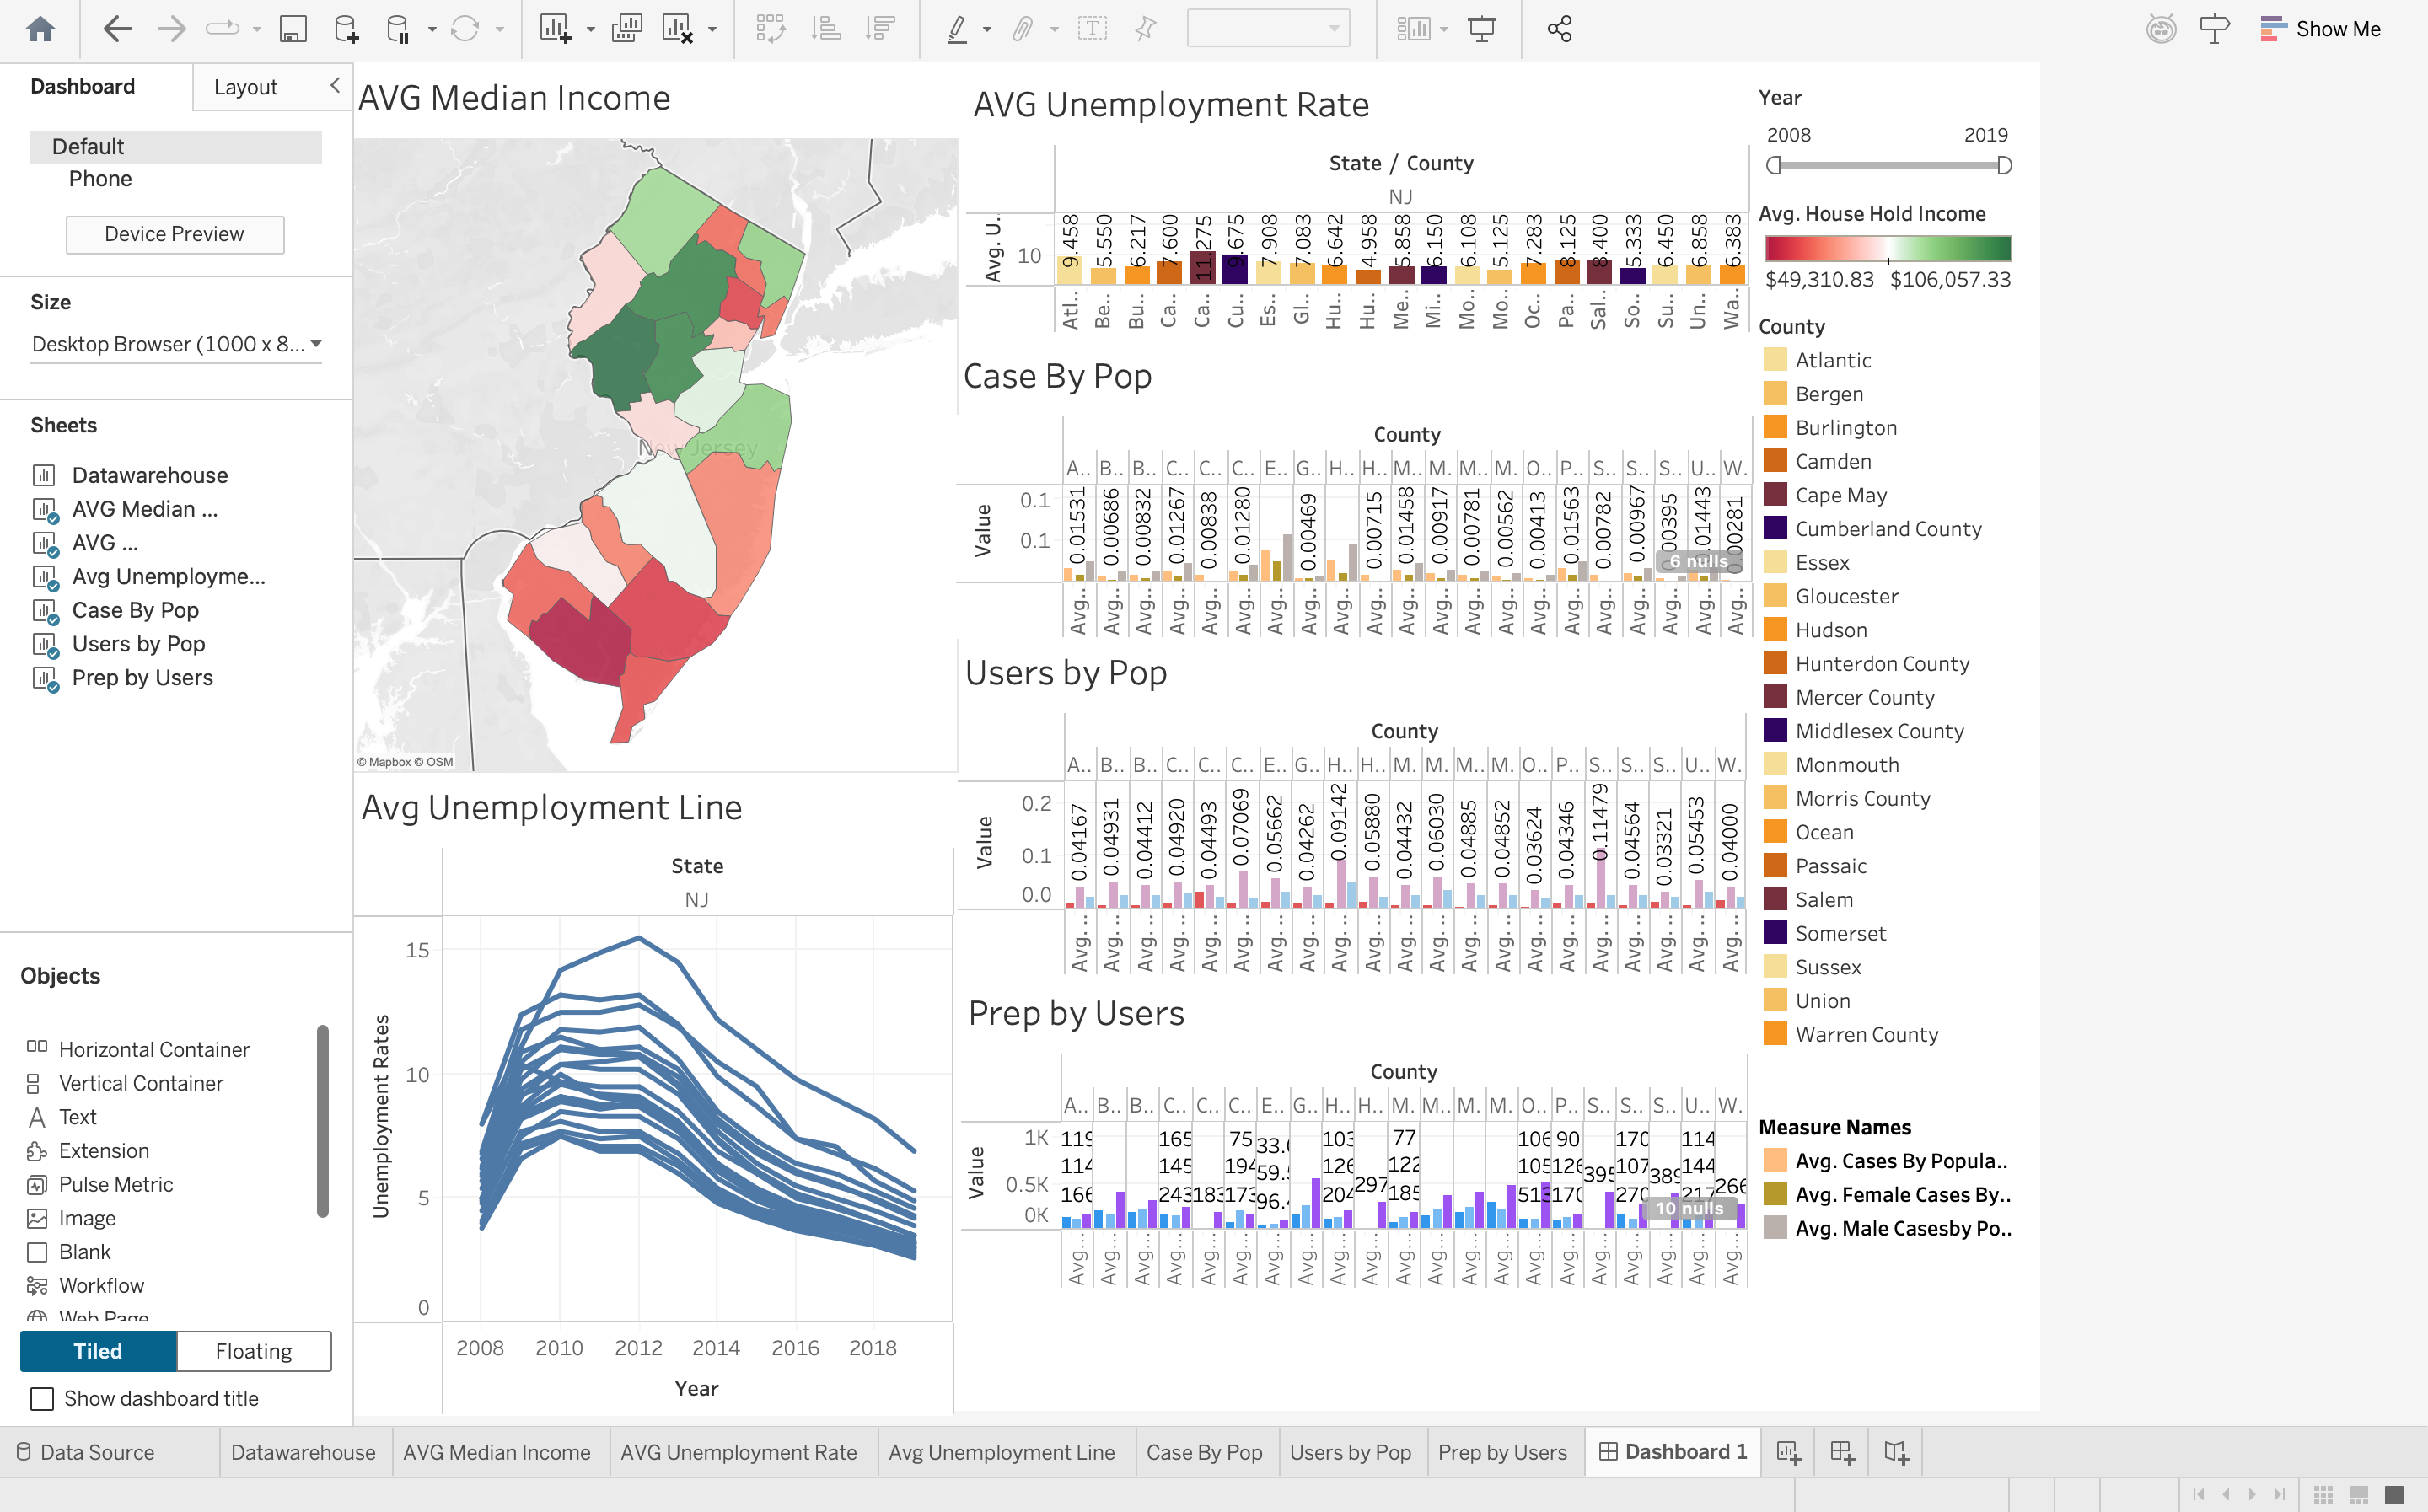

The dashboard page shown, as its layout file describes it:
{"tool":"tableau","page":{"name":"Dashboard 1","canvas":[1000,800],"ordinal":0},"visuals":[{"type":"worksheet","title":"AVG Unemployment Rate","mark":"Automatic","rows":["UnemploymentRates"],"cols":["State","County"],"box":[363,6,465,155]},{"type":"filter","title":"AVG Median Income","param":"[federated.07hlbhk1jbxv2x1gxzk640apmzwd].[none:Year:qk]","box":[829,8,163,69]},{"type":"legend","title":"AVG Median Income","param":"[federated.07hlbhk1jbxv2x1gxzk640apmzwd].[avg:HouseHoldIncome:qk]","box":[829,77,163,67]},{"type":"legend","title":"AVG Unemployment Rate","param":"[federated.07hlbhk1jbxv2x1gxzk640apmzwd].[none:County:nk]","box":[829,144,163,475]},{"type":"worksheet","title":"Case By Pop","mark":"Automatic","cols":["County"],"box":[357,167,474,175]},{"type":"worksheet","title":"Users by Pop","mark":"Automatic","cols":["County"],"box":[358,343,469,199]},{"type":"worksheet","title":"Avg Unemployment Line","mark":"Automatic","rows":["UnemploymentRates"],"cols":["State","Year"],"box":[0,423,356,380]},{"type":"worksheet","title":"Prep by Users","mark":"Automatic","cols":["County"],"box":[360,545,467,183]},{"type":"legend","title":"Case By Pop","param":"[federated.07hlbhk1jbxv2x1gxzk640apmzwd].[:Measure Names]","box":[829,619,163,86]}]}

Visuals, with their boxes on the page's 1000x800 design canvas (x1, y1, x2, y2). These are canvas units, not pixel positions in the 2428x1512 screenshot, which may show the page scaled, cropped or inside an application window:
"AVG Unemployment Rate" worksheet: region(363, 6, 828, 161)
"AVG Median Income" filter: region(829, 8, 992, 77)
"AVG Median Income" legend: region(829, 77, 992, 144)
"AVG Unemployment Rate" legend: region(829, 144, 992, 619)
"Case By Pop" worksheet: region(357, 167, 831, 342)
"Users by Pop" worksheet: region(358, 343, 827, 542)
"Avg Unemployment Line" worksheet: region(0, 423, 356, 803)
"Prep by Users" worksheet: region(360, 545, 827, 728)
"Case By Pop" legend: region(829, 619, 992, 705)
